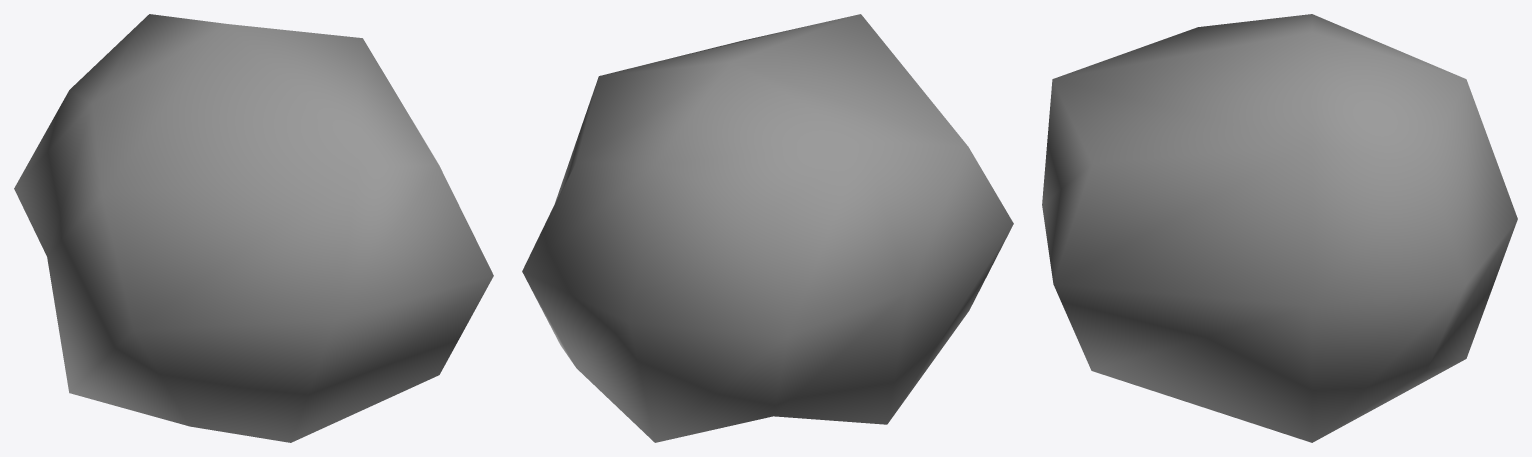
File: SingleRock.fbx
The picture shows the model from 3 angles, left to right: view 1: azimuth 30°, elevation 25°; view 2: azimuth 150°, elevation 25°; view 3: azimuth 270°, elevation 25°; orthographic projection.
Visible parts, largest first — view 1: SingleRock; view 2: SingleRock; view 3: SingleRock.
Boxes of the visible parts, bbox=[...] form: SingleRock: bbox=[14, 14, 493, 442]; SingleRock: bbox=[522, 14, 1013, 442]; SingleRock: bbox=[1042, 14, 1517, 442].
Size of the model in its own units: 1.06 by 0.9656 by 1.19.
1 material, 1 textured.
